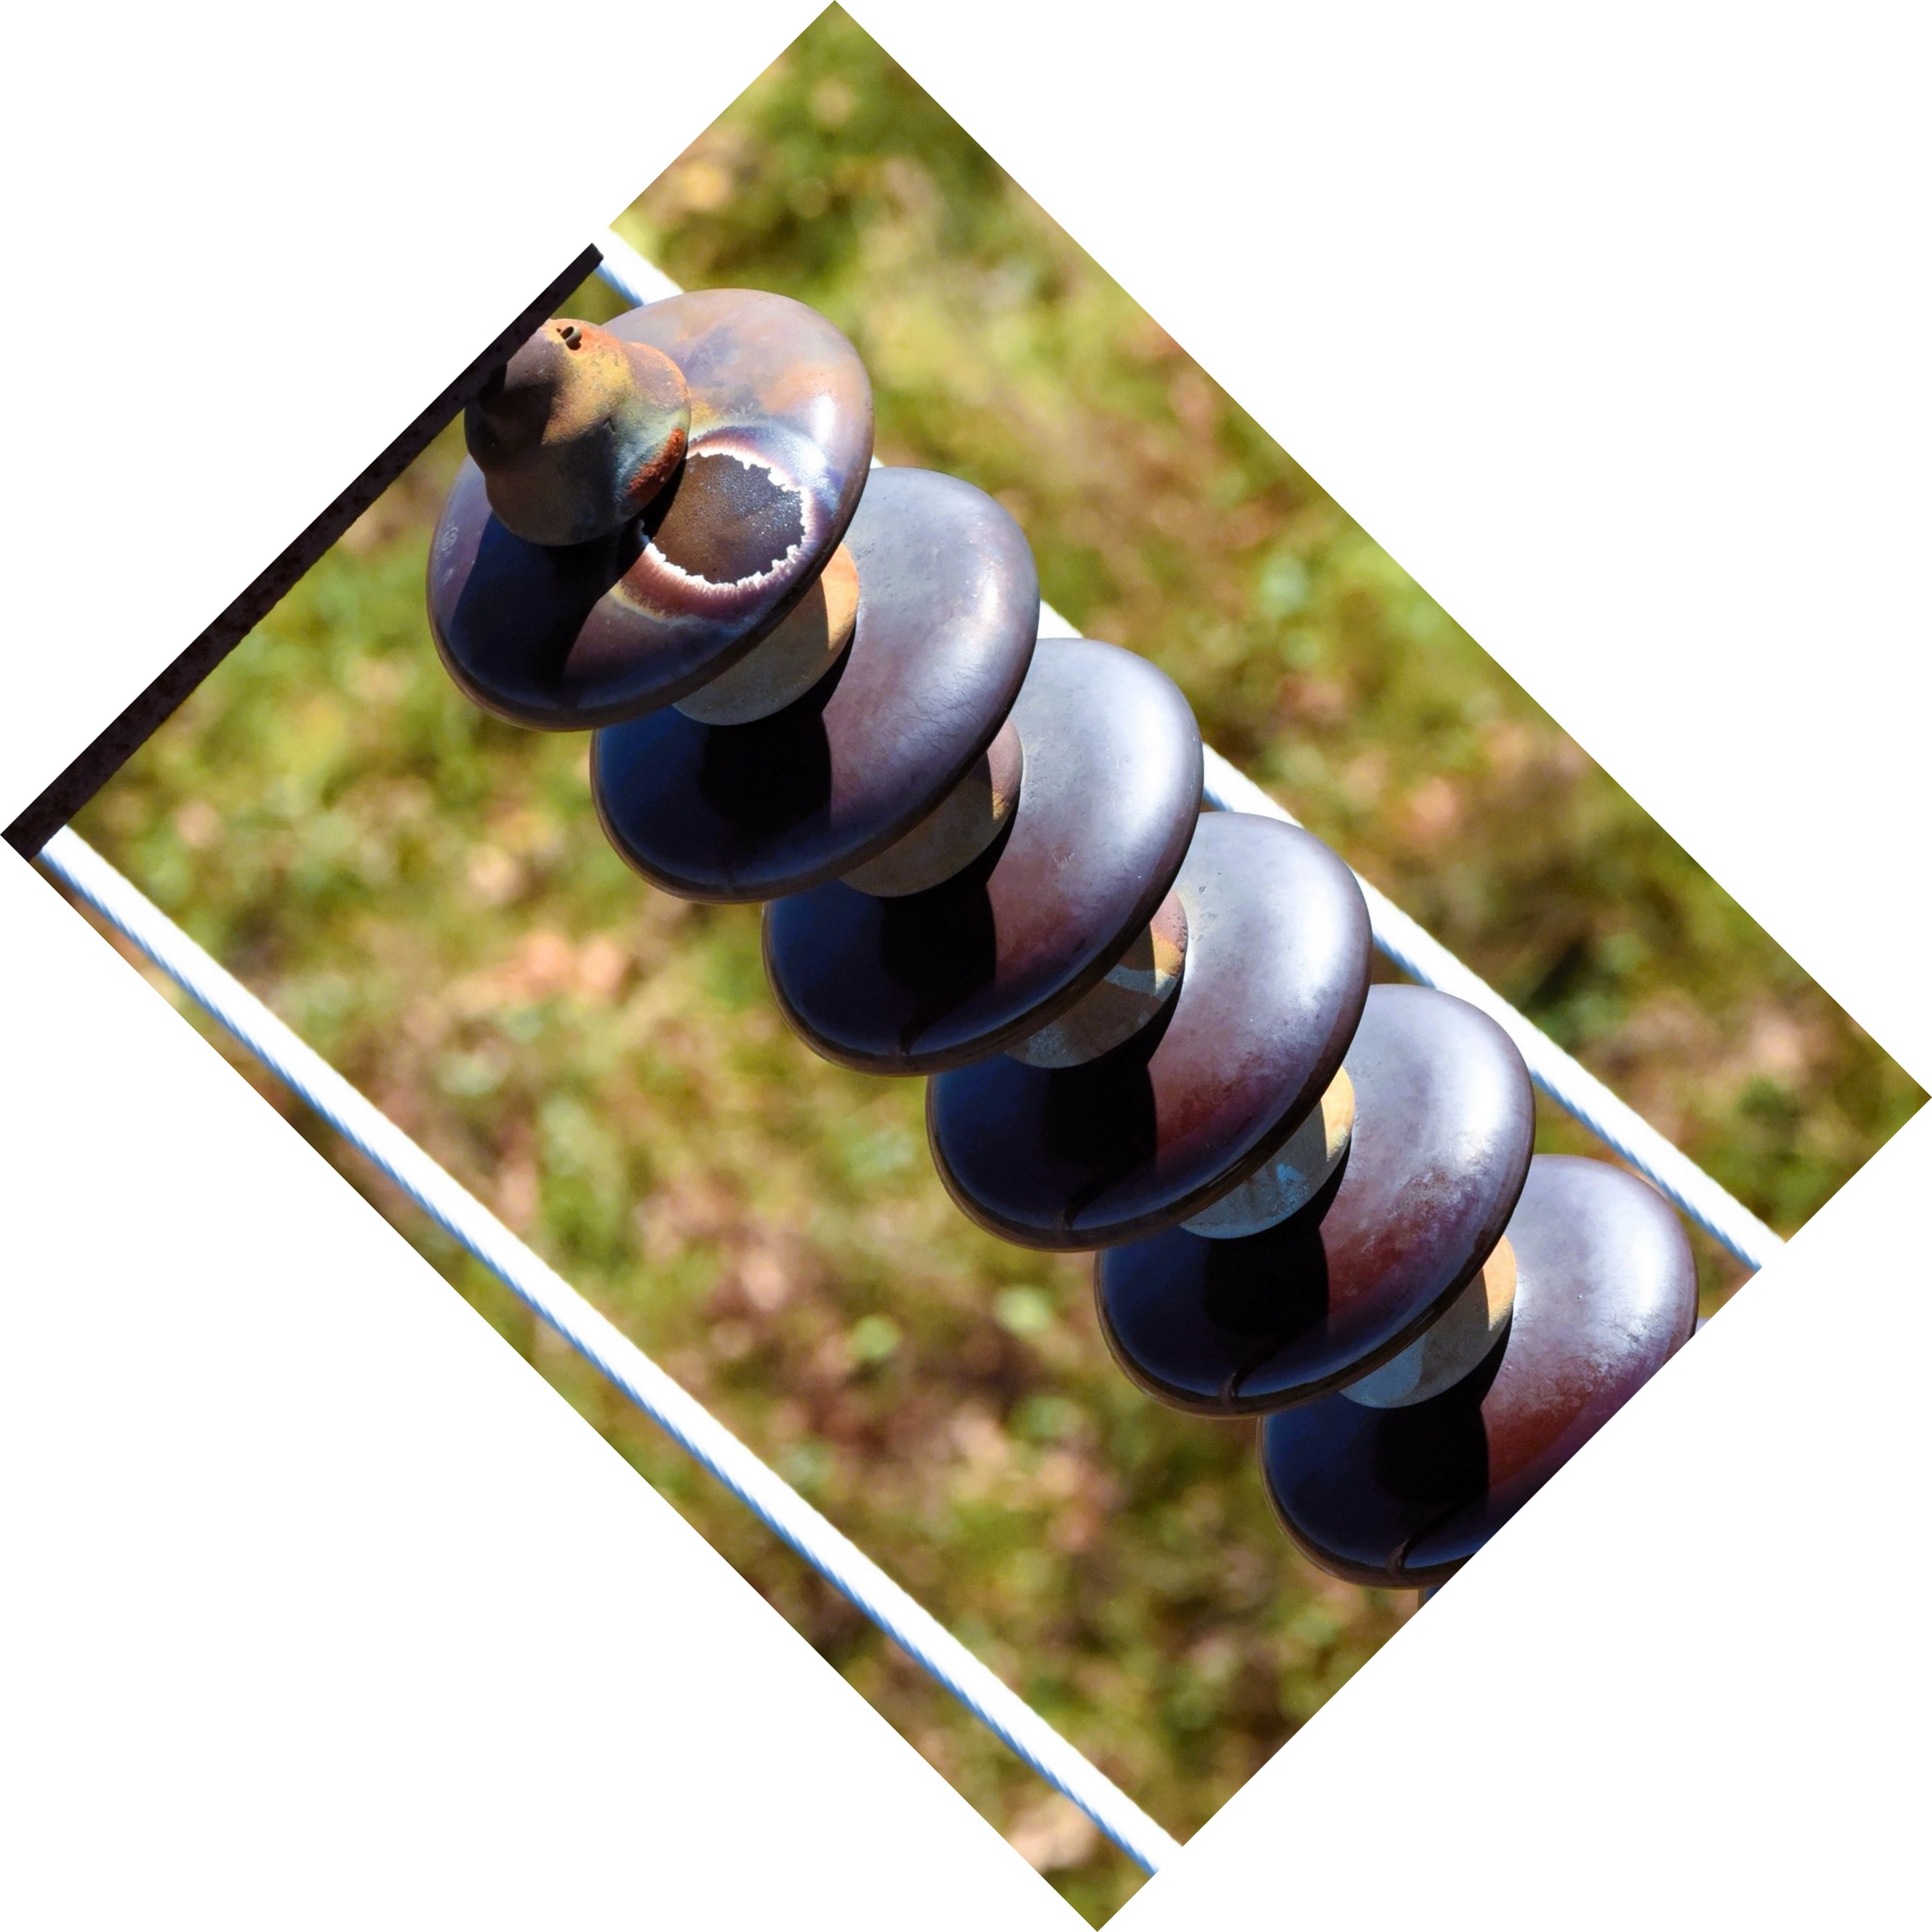Insulator flashover: (410, 274, 888, 741)
